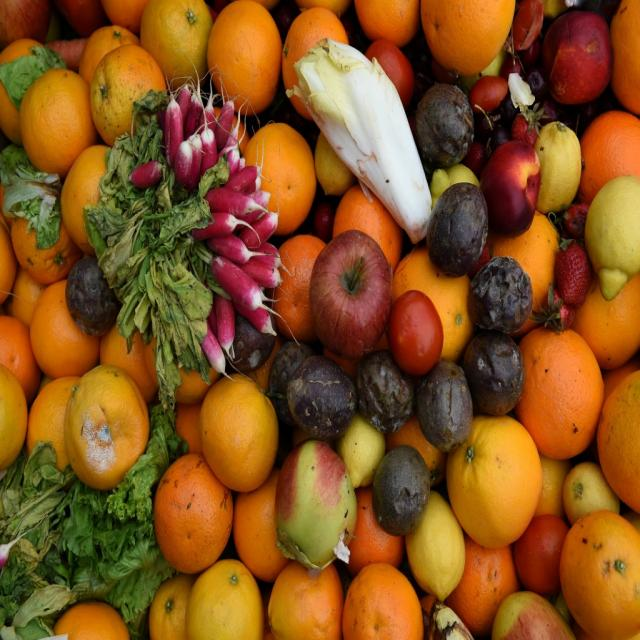food_waste: (326, 38, 553, 468)
